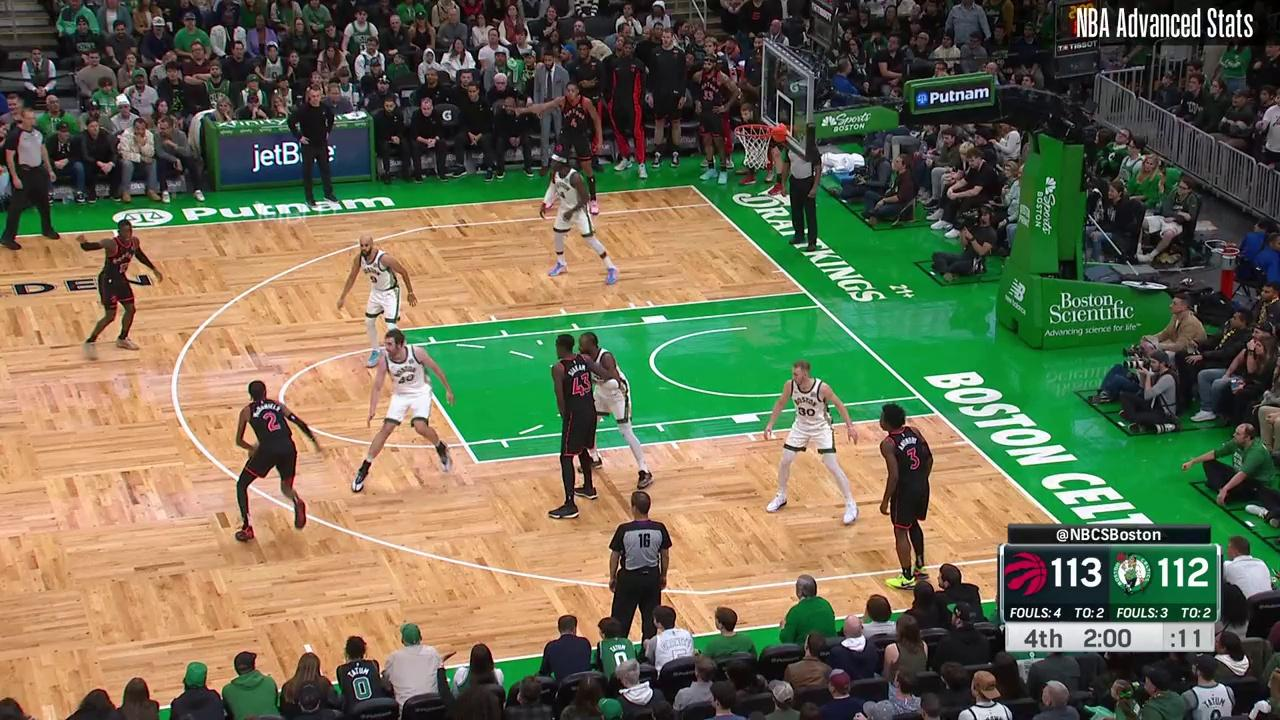3_dx: (688, 182, 696, 191)
3_sx: (707, 200, 716, 208)
free_adx: (471, 457, 483, 467)
free_bdx: (932, 408, 943, 418)
free_bsx: (801, 288, 811, 296)
mid_dx: (301, 638, 313, 650)
referee: (607, 490, 673, 637), (2, 110, 60, 250), (785, 137, 824, 247)
team: (348, 332, 456, 490), (761, 361, 862, 525), (575, 331, 655, 491), (335, 232, 417, 373), (542, 151, 622, 284)
team1: (228, 379, 319, 540), (78, 218, 162, 364), (877, 403, 935, 588), (534, 80, 604, 218), (549, 337, 600, 517)
timer: (1078, 619, 1138, 653)
